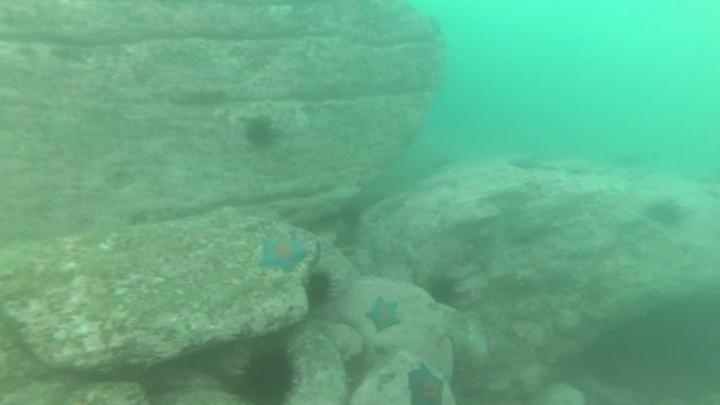echinus: (234, 344, 304, 405), (421, 272, 464, 310), (643, 197, 687, 232), (302, 267, 336, 311), (240, 113, 279, 151)
starfish: (256, 232, 309, 274), (403, 360, 449, 405), (362, 294, 405, 335), (372, 189, 412, 221)
